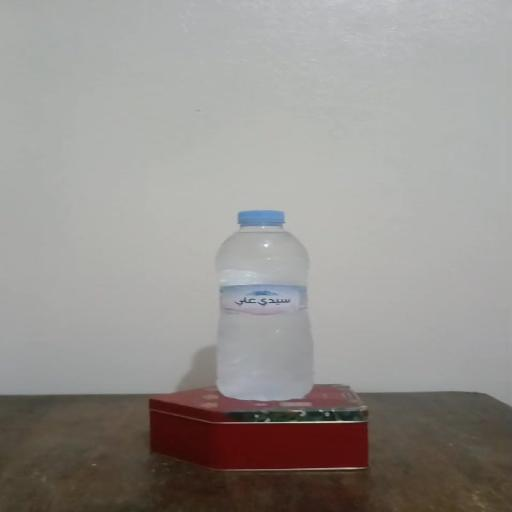bouteille conformite: (207, 207, 331, 405)
